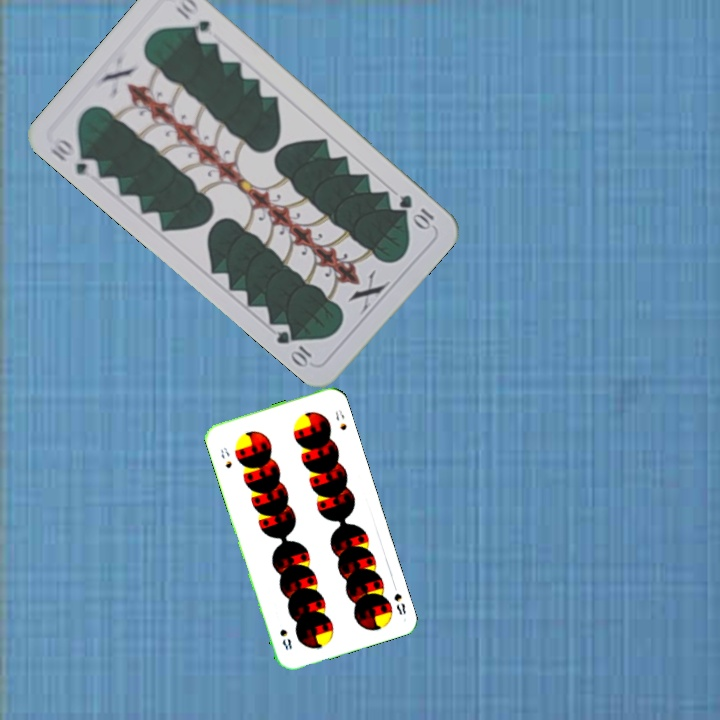G10: (46, 133, 102, 182), (395, 190, 438, 232)
S8: (389, 579, 409, 617), (216, 443, 234, 471)
